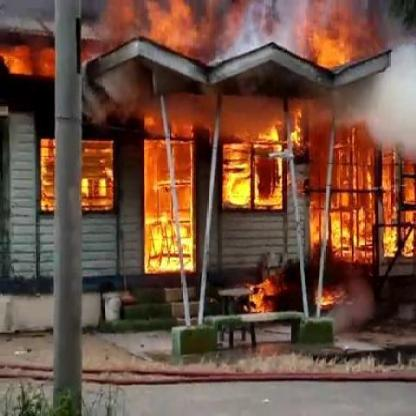fire: (87, 0, 385, 74), (310, 113, 413, 258), (213, 98, 305, 218), (137, 98, 198, 277), (35, 130, 118, 218), (236, 266, 352, 317), (2, 30, 58, 76)
